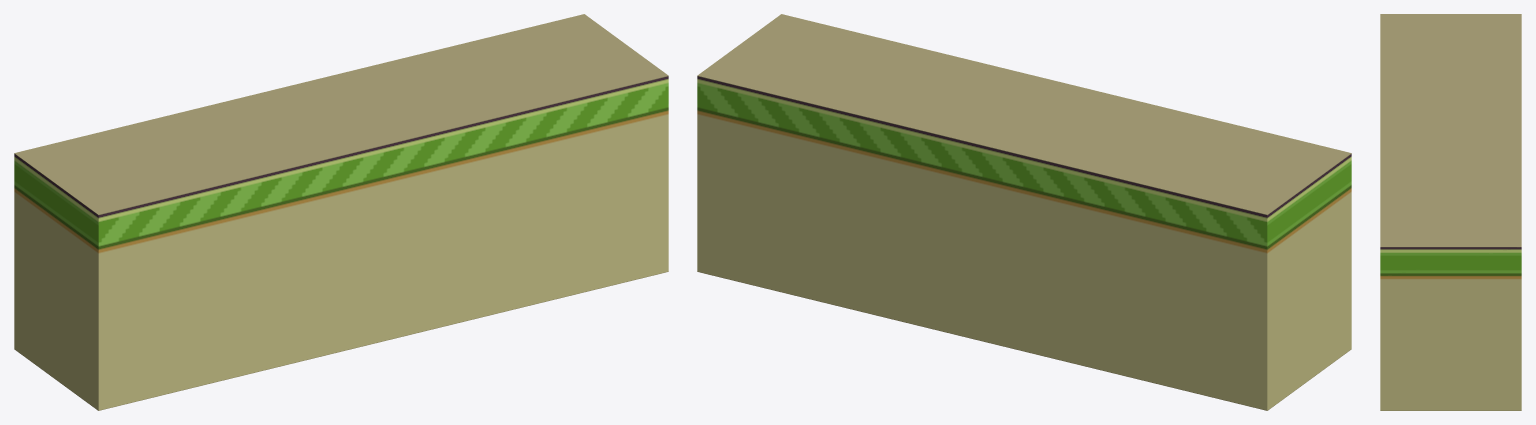
The picture shows the model from 3 angles, left to right: view 1: azimuth 30°, elevation 25°; view 2: azimuth 150°, elevation 25°; view 3: azimuth 270°, elevation 25°; orthographic projection. The views are drawn at different scales.
Parts seen in each view (by area): view 1: base; view 2: base; view 3: base.
Boxes of the visible parts, x1,y1,x2,y2 form: base: [14, 14, 668, 410]; base: [697, 14, 1351, 410]; base: [1380, 14, 1521, 410].
Size of the model in its own units: 499 by 164 by 128.
1 material, 1 textured.
